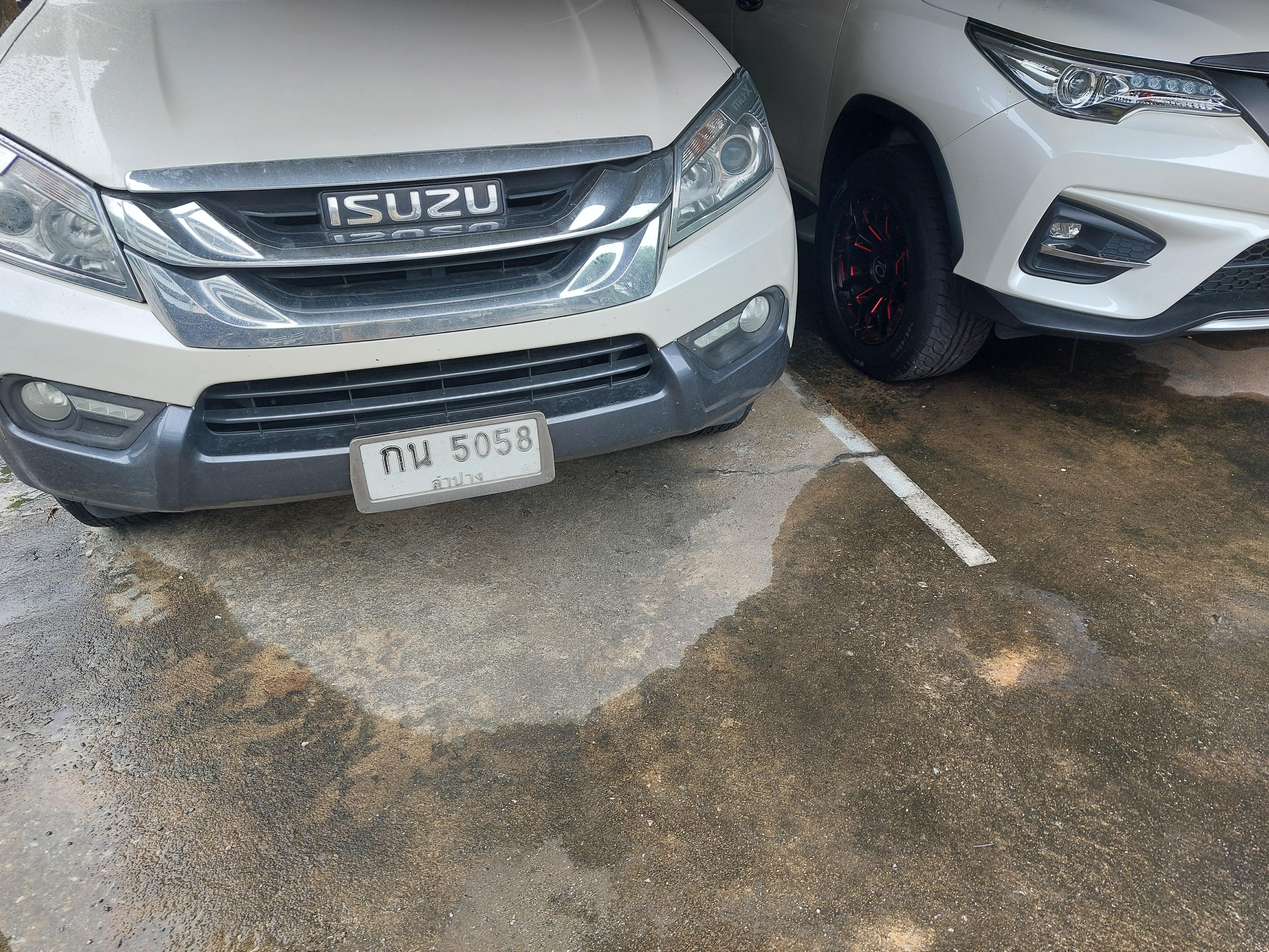license-plate: (348, 408, 560, 518)
